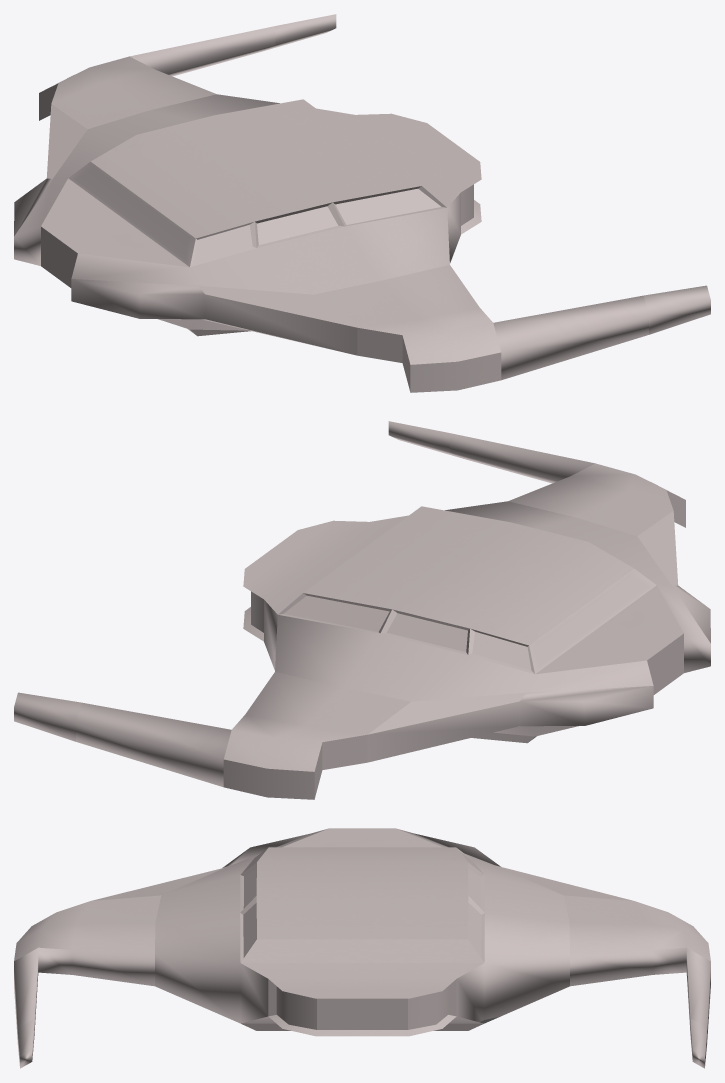
Rendered from Manta_10.fbx.
The picture shows the model from 3 angles, top to bottom: view 1: azimuth 30°, elevation 25°; view 2: azimuth 150°, elevation 25°; view 3: azimuth 270°, elevation 25°; orthographic projection. The views are drawn at different scales.
Parts seen in each view (by area): view 1: pCube1; view 2: pCube1; view 3: pCube1.
Boxes of the visible parts, x1,y1,x2,y2 form: pCube1: (14, 14, 710, 392); pCube1: (14, 421, 710, 799); pCube1: (14, 828, 710, 1068).
Bounding box in the file's own units: 58.07 × 12.71 × 82.15.
Materials: 1 (1 with a texture image).
